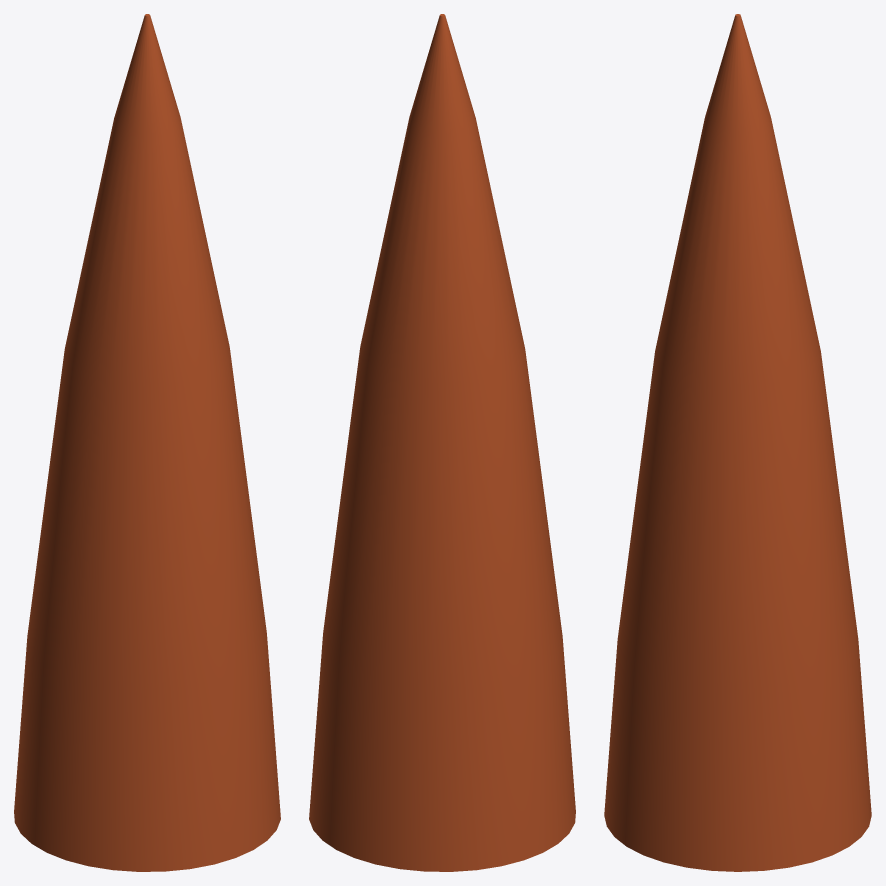
The model's file is projectile-sniper.glb.
3 renders of one model, left to right at view 1: azimuth 30°, elevation 25°; view 2: azimuth 150°, elevation 25°; view 3: azimuth 270°, elevation 25°, orthographic.
Parts seen in each view (by area): view 1: projectile-sniper; view 2: projectile-sniper; view 3: projectile-sniper.
Boxes of the visible parts, x1,y1,x2,y2 form: projectile-sniper: [14, 14, 280, 871]; projectile-sniper: [309, 14, 575, 871]; projectile-sniper: [604, 14, 871, 871].
Size of the model in its own units: 0.099 by 0.3268 by 0.099.
1 material, 1 textured.
